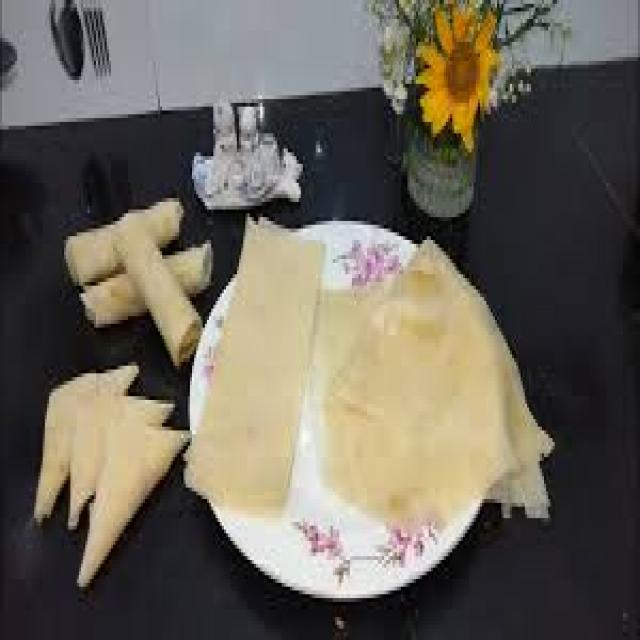Samosa: (36, 362, 194, 587)
Spring Rolls: (68, 183, 215, 354)
